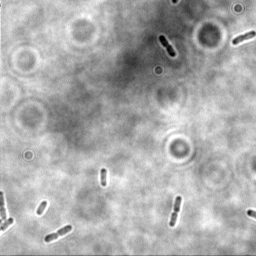Dividing: (44, 224, 73, 244), (157, 34, 178, 58), (168, 195, 183, 228), (230, 30, 256, 46)
Rod: (99, 167, 109, 188), (36, 200, 48, 216)
